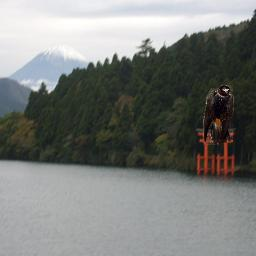Swallow: (203, 85, 234, 145)
